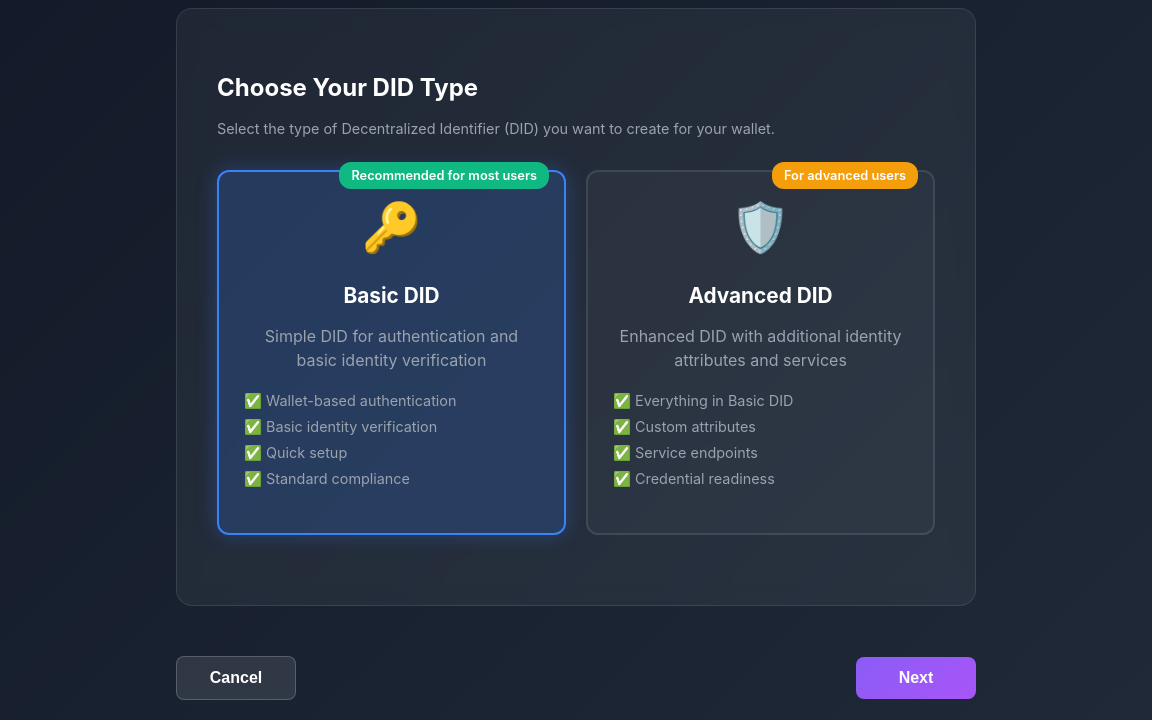
Test: DIDWizard › Step 3: Preview › shows correct summary information
(page scrolled)
Step 1. Click the button "Next" → coordinates (916, 678), box [856,657,976,699]
(page scrolled)
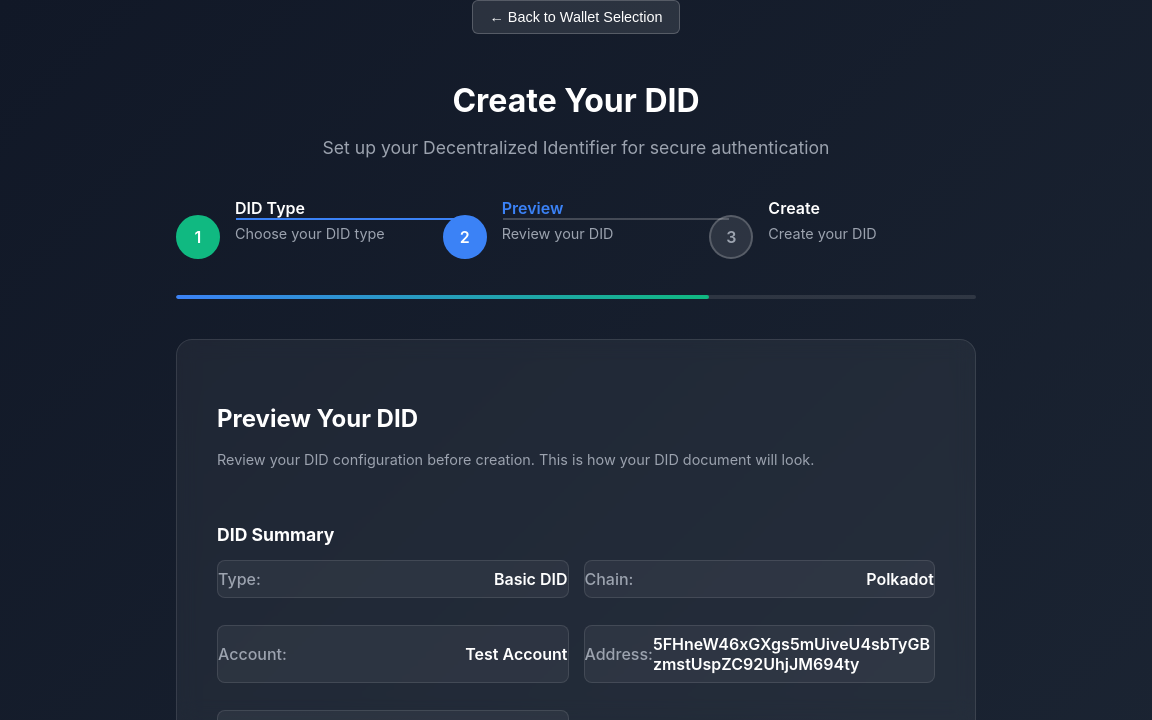
Expected: the text "Polkadot" is shown, [866,569,934,589]
Expected: the text "Test Account" is shown, [465,644,568,664]
Expected: the text "5FHneW46xGXgs5mUiveU4sbTyGBzmstUspZC92UhjJM694ty" is shown, [653,634,934,674]
